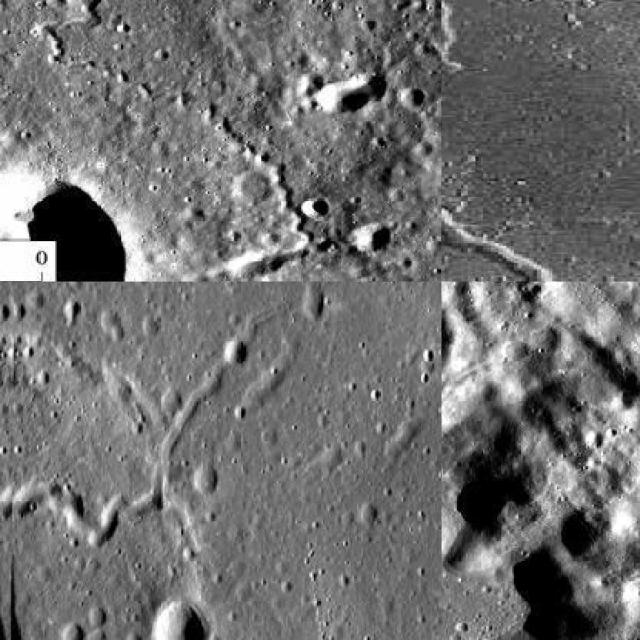rille: (0, 282, 409, 638), (28, 0, 315, 254), (442, 0, 638, 280), (441, 0, 638, 132)
